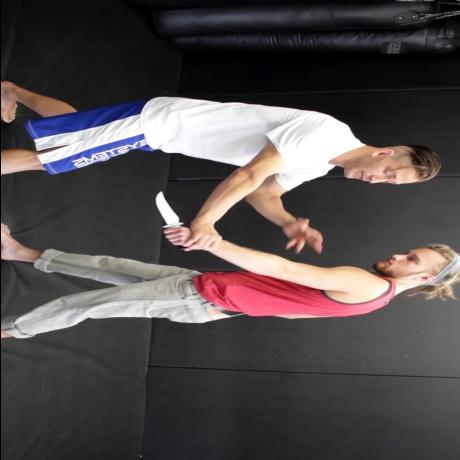1: (0, 78, 444, 248), (0, 225, 458, 343)
weapon: (153, 192, 191, 250)
